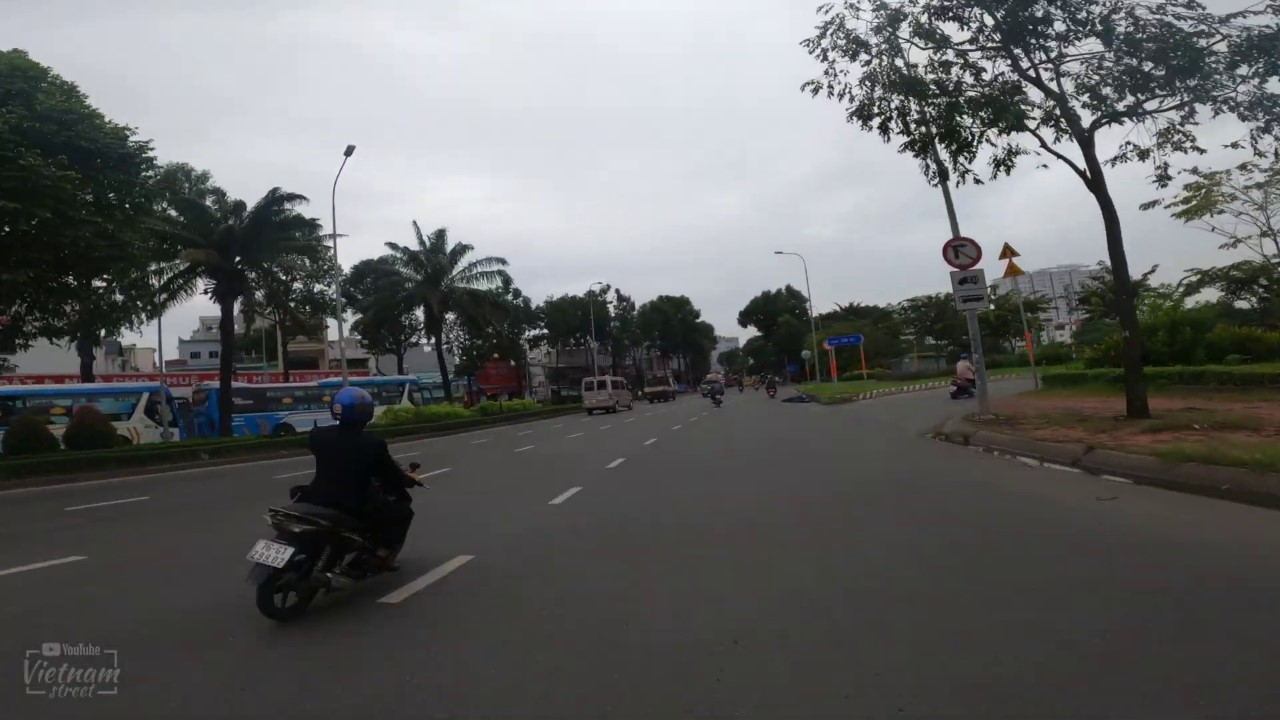cam_re_phai: (940, 236, 983, 270)
